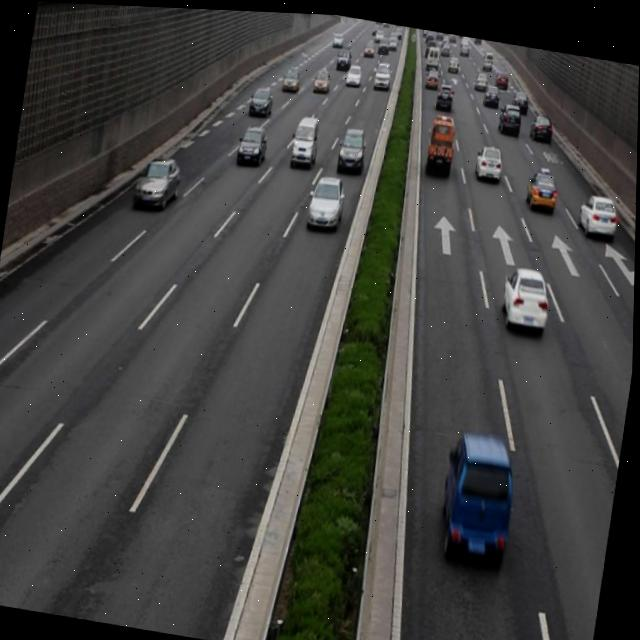bus: (425, 109, 456, 169)
car: (436, 424, 520, 564), (497, 257, 553, 333), (131, 148, 183, 209), (307, 171, 345, 227), (576, 186, 618, 234), (523, 160, 559, 208), (236, 120, 268, 162), (473, 138, 504, 179), (337, 124, 366, 166)
truck: (289, 111, 320, 165)
